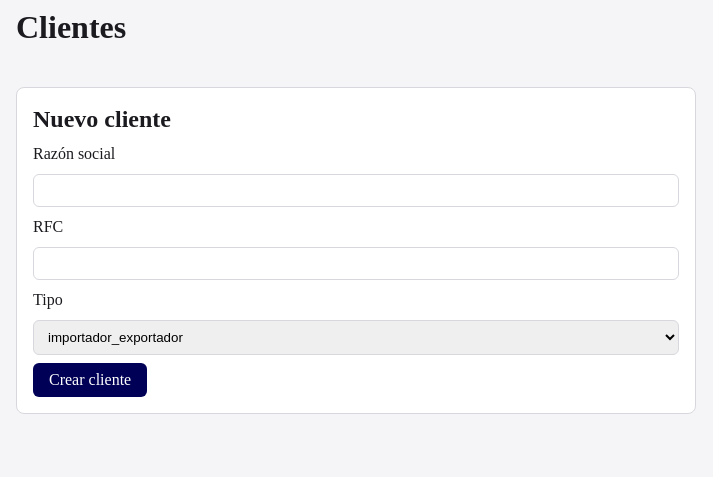
Scenario: ClientesPage › lets an admin create a cliente and refreshes the list
Expected: the button "Crear cliente" is shown, [33, 363, 147, 397]
In the field labelled "Razón social": (356, 190) [33, 174, 679, 207], type "Transportes Demo"
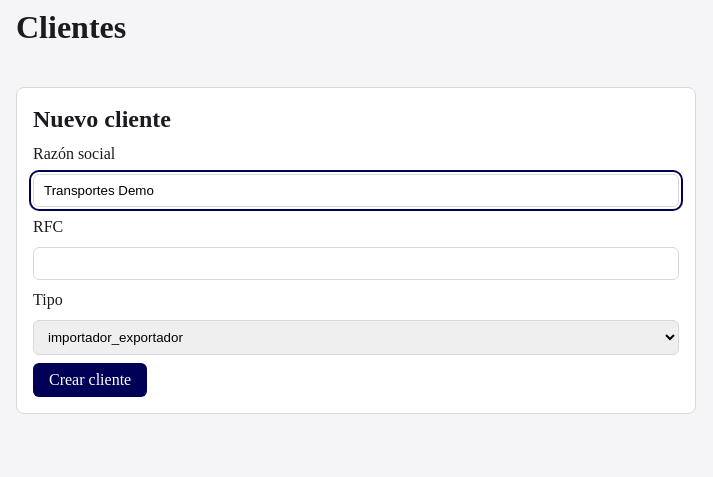
In the field labelled "RFC": (356, 264) [33, 247, 679, 280], type "AAA010101AA2"
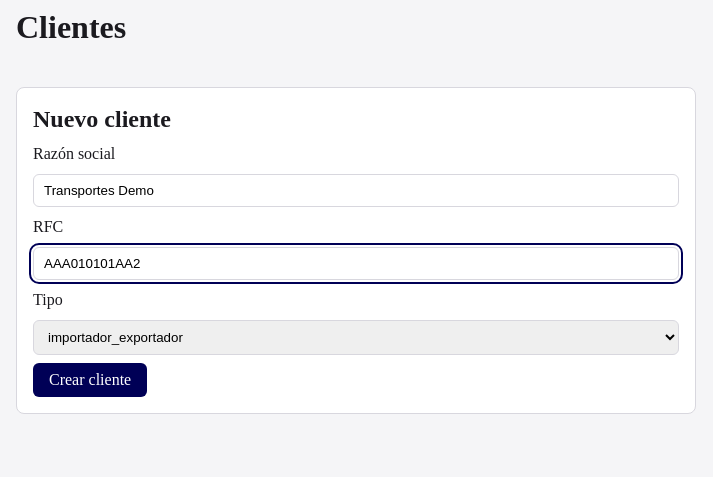
Select "transportista" in the dropdown labelled "Tipo": (356, 338) [33, 320, 679, 355]
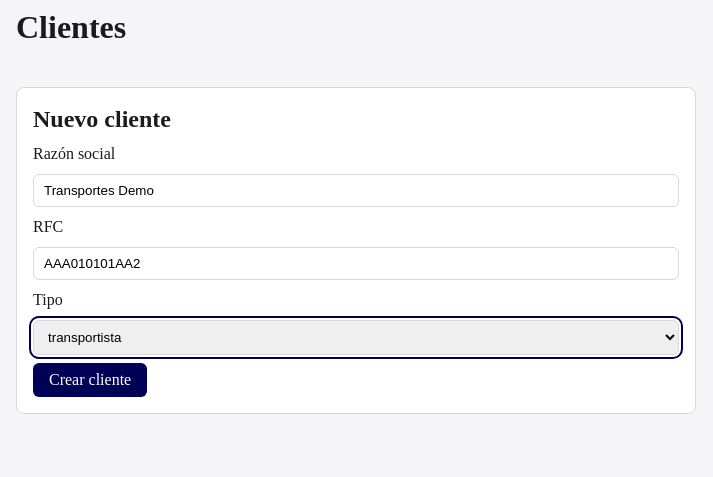
Click the button "Crear cliente": (90, 380) [33, 363, 147, 397]
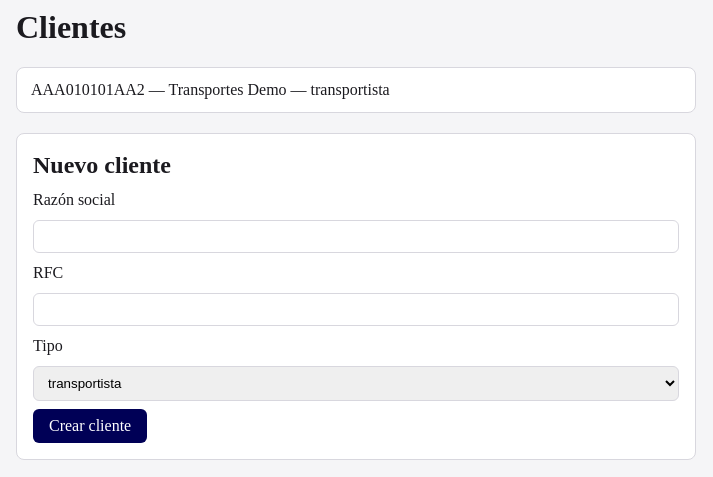
Expected: the list item "AAA010101AA2 — Transportes Demo — transportista" is shown, [16, 67, 696, 113]
